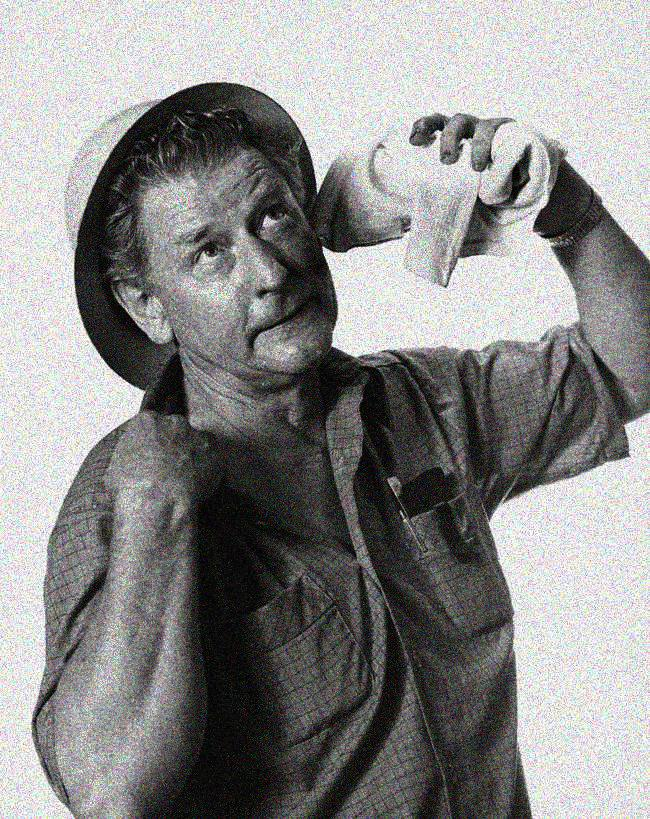helmet: (59, 83, 347, 399)
